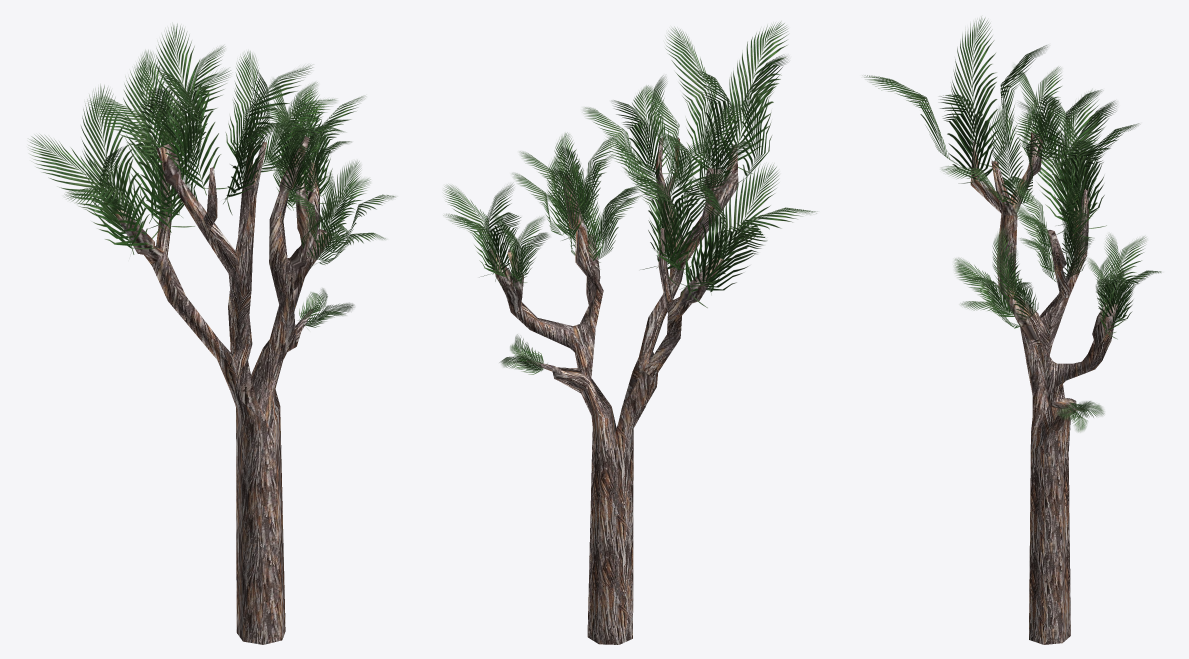
File: dracaena.glb
3 renders of one model, left to right at view 1: azimuth 30°, elevation 25°; view 2: azimuth 150°, elevation 25°; view 3: azimuth 270°, elevation 25°, orthographic. The views are drawn at different scales.
Visible parts, largest first — view 1: dracaena; view 2: dracaena; view 3: dracaena.
Boxes of the visible parts, x1=… form: dracaena: x1=28, y1=23, x2=395, y2=644; dracaena: x1=443, y1=21, x2=817, y2=644; dracaena: x1=864, y1=16, x2=1161, y2=644.
Size of the model in its own units: 2.78 by 4.59 by 2.42.
2 materials, 2 textured.
